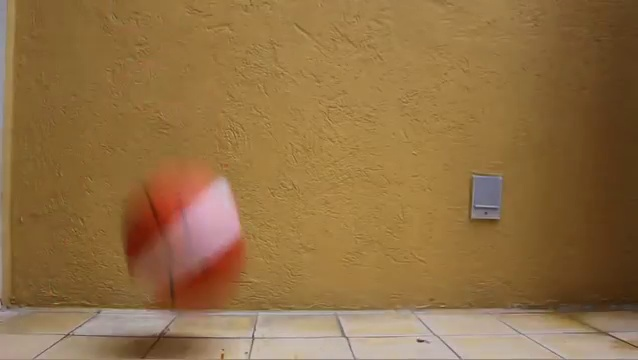ball: (121, 154, 251, 315)
